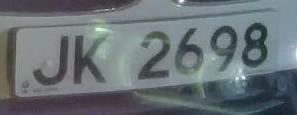2: (132, 27, 174, 87)
6: (170, 24, 210, 79)
8: (237, 20, 273, 68)
9: (206, 19, 243, 77)
J: (30, 31, 72, 92)
K: (68, 28, 113, 92)
